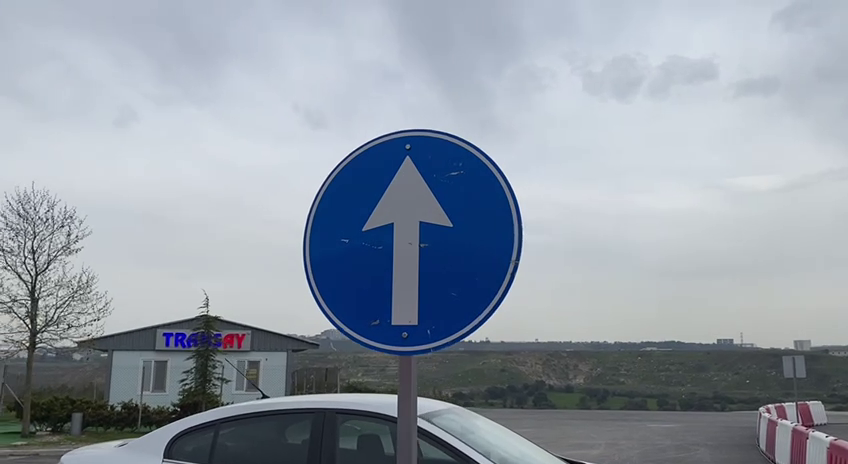forward: (300, 123, 527, 360)
